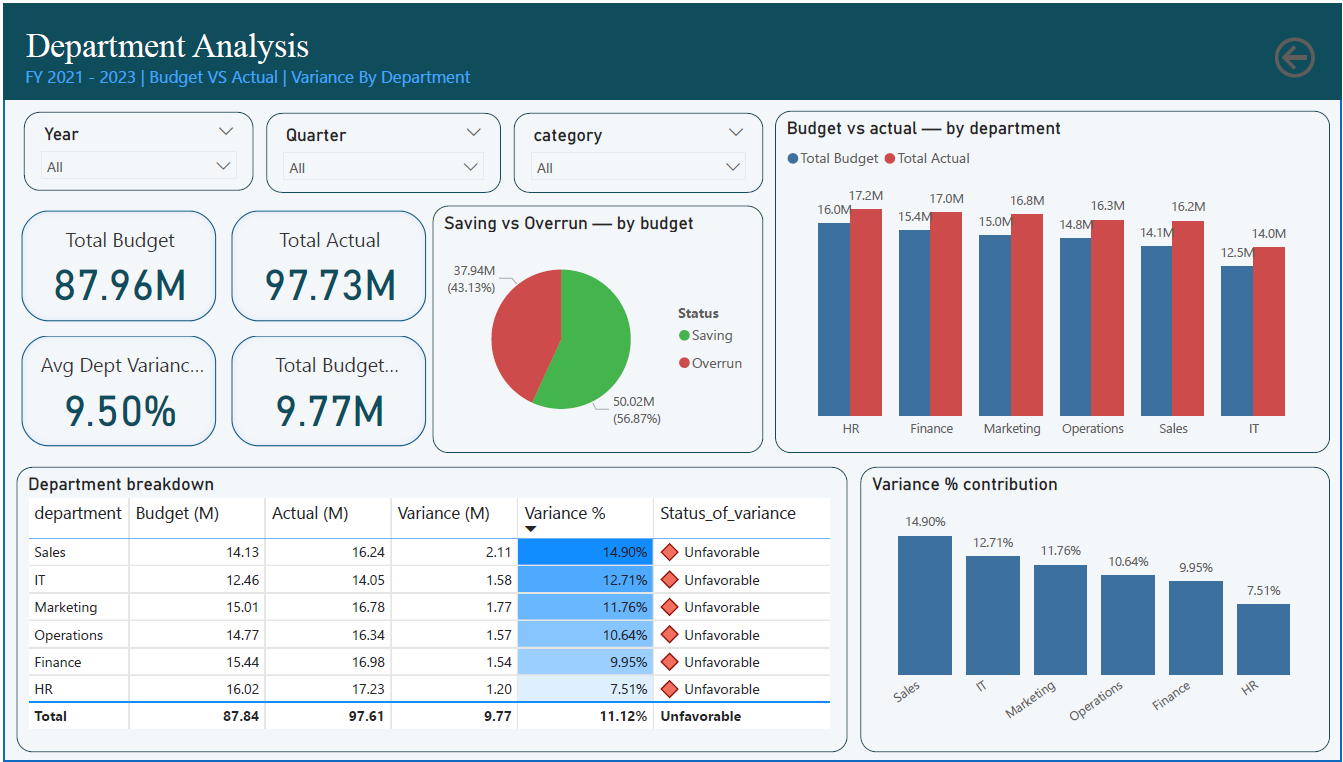

This screenshot's page, from the dashboard's own definition file:
{"tool":"powerbi","page":{"name":"Department","canvas":[1280,720],"ordinal":2},"visuals":[{"type":"shape","box":[9.6,0,1270.7,720.4],"z":0},{"type":"textbox","box":[9.6,0,1270.7,90.6],"z":1000},{"type":"cardVisual","fields":{"Data":["Fact_PL.Total Budget","Fact_PL.Total Actual","Fact_PL.Avg Department Variance %","Fact_PL.Total Budget Impact"]},"box":[22,192.1,395.2,234.6],"z":2000},{"type":"tableEx","title":"Department breakdown","fields":{"Values":["Fact_PL.department","Fact_PL.Budget (M)","Fact_PL.Actual (M)","Fact_PL.Variance (M)","Fact_PL.Variance %","Fact_PL.Status_of_variance"]},"box":[22,440.5,789,270.3],"z":3000},{"type":"columnChart","title":"Variance % contribution","fields":{"Category":["Fact_PL.department"],"Y":["Fact_PL.Variance %"]},"box":[823.3,440.5,446,270.3],"z":4000},{"type":"slicer","fields":{"Values":["Fact_PL.Year"]},"box":[28.8,102.9,218.2,75.5],"z":5000},{"type":"slicer","fields":{"Values":["Fact_PL.Quarter"]},"box":[259.3,104.3,222.3,75.5],"z":6000},{"type":"slicer","fields":{"Values":["Fact_PL.category"]},"box":[494,104.3,237.4,75.5],"z":7000},{"type":"clusteredColumnChart","title":"Budget vs actual — by department","fields":{"Category":["Fact_PL.department"],"Y":["Fact_PL.Total Budget","Fact_PL.Total Actual"]},"box":[742.4,101.5,526.9,325.2],"z":8000},{"type":"pieChart","title":"Saving vs Overrun — by budget","fields":{"Category":["Fact_PL.Status"],"Y":["Fact_PL.Total Budget"]},"box":[417.2,192.1,314.2,234.6],"z":9000},{"type":"actionButton","box":[1202,12.2,67.3,78.3],"z":10000}]}

Visuals, with their boxes in screenshot pixels (x1, y1, x2, y2), scaled from the page's 1280x720 canvas onto the 1343x762 screenshot:
shape: locate(10, 0, 1342, 761)
textbox: locate(10, 0, 1342, 96)
cardVisual - Fact_PL.Total Budget x Fact_PL.Total Actual: locate(23, 203, 438, 452)
"Department breakdown" tableEx: locate(23, 466, 851, 752)
"Variance % contribution" columnChart: locate(864, 466, 1332, 752)
slicer - Fact_PL.Year: locate(30, 109, 259, 189)
slicer - Fact_PL.Quarter: locate(272, 110, 505, 190)
slicer - Fact_PL.category: locate(518, 110, 767, 190)
"Budget vs actual — by department" clusteredColumnChart: locate(779, 107, 1332, 452)
"Saving vs Overrun — by budget" pieChart: locate(438, 203, 767, 452)
actionButton: locate(1261, 13, 1332, 96)
